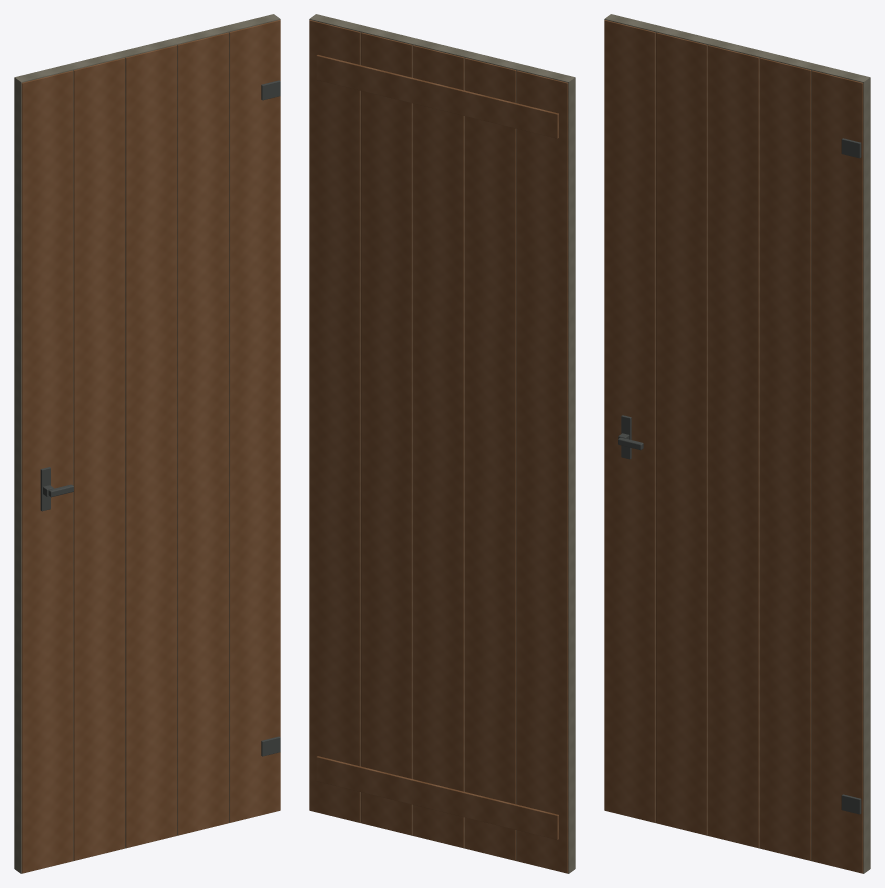
The model's file is MRP_DoorLeaf_Double_Right.fbx.
3 renders of one model, left to right at view 1: azimuth 30°, elevation 25°; view 2: azimuth 150°, elevation 25°; view 3: azimuth 330°, elevation 25°, orthographic.
Visible parts, largest first — view 1: MRP_DoorLeaf_Double_Right_Hinge_Mesh; view 2: MRP_DoorLeaf_Double_Right_Hinge_Mesh; view 3: MRP_DoorLeaf_Double_Right_Hinge_Mesh.
Part boxes in pixels (left/top/right/bottom): MRP_DoorLeaf_Double_Right_Hinge_Mesh: left=14, top=14, right=280, bottom=873; MRP_DoorLeaf_Double_Right_Hinge_Mesh: left=309, top=14, right=575, bottom=873; MRP_DoorLeaf_Double_Right_Hinge_Mesh: left=604, top=14, right=870, bottom=873.
Size of the model in its own units: 0.72 by 2.1 by 0.082.
